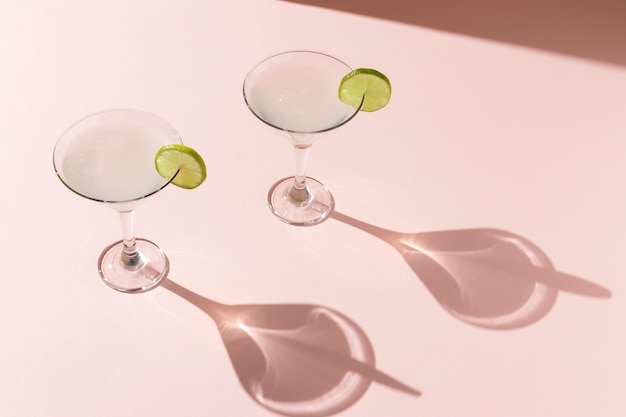alcohol: (52, 106, 208, 292), (237, 47, 394, 229)
